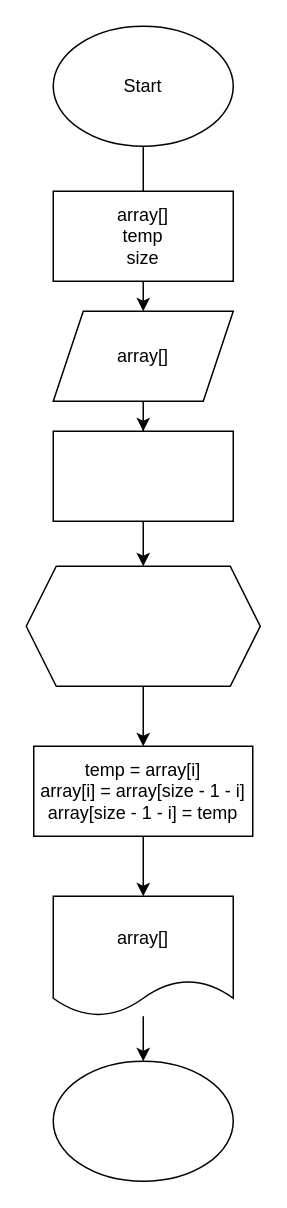
Image size: 287x1208. Some labels were removed from this diagram. Each missing label, with the centre of its shape:
"Finish" belongs at (x=142, y=1120).
"for (i = 0; i < size/2; i++)" belongs at (x=142, y=625).
"size = length(array[])" belongs at (x=142, y=475).
